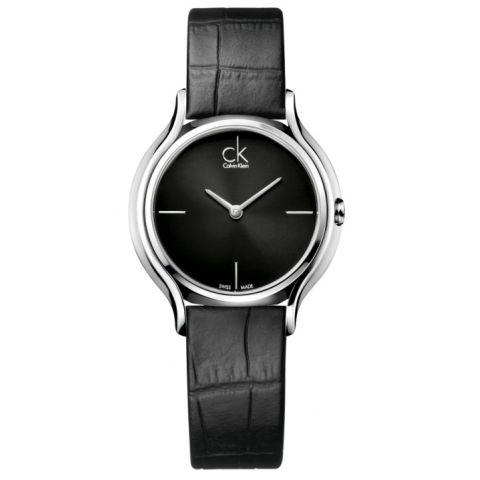watch: (122, 4, 350, 471)
